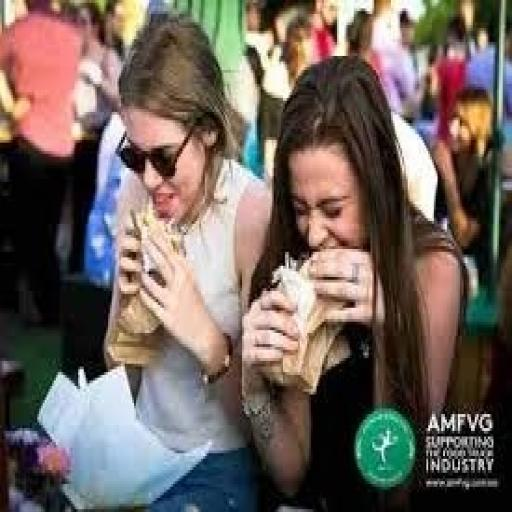eating: (238, 50, 469, 510)
